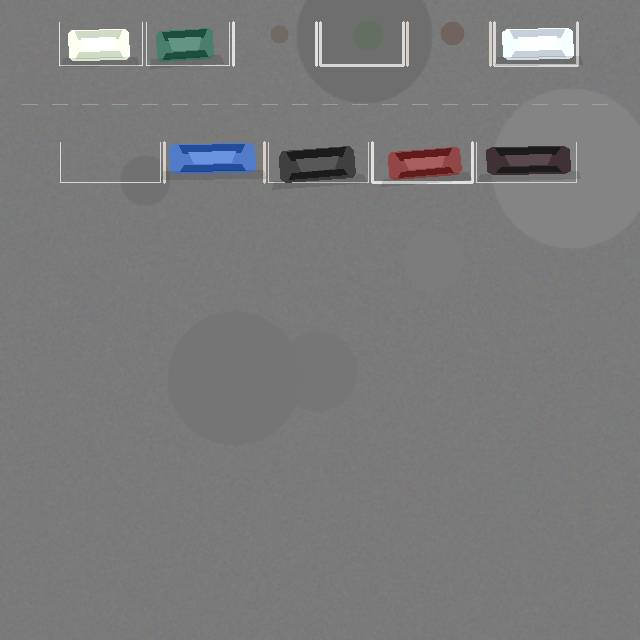space-empty: (60, 142, 160, 182), (233, 22, 316, 65), (320, 22, 403, 65), (407, 22, 490, 65)
space-occupied: (164, 142, 264, 182), (268, 142, 368, 182), (372, 142, 472, 182), (476, 142, 576, 182), (59, 22, 142, 65), (146, 22, 229, 65), (494, 22, 577, 65)
